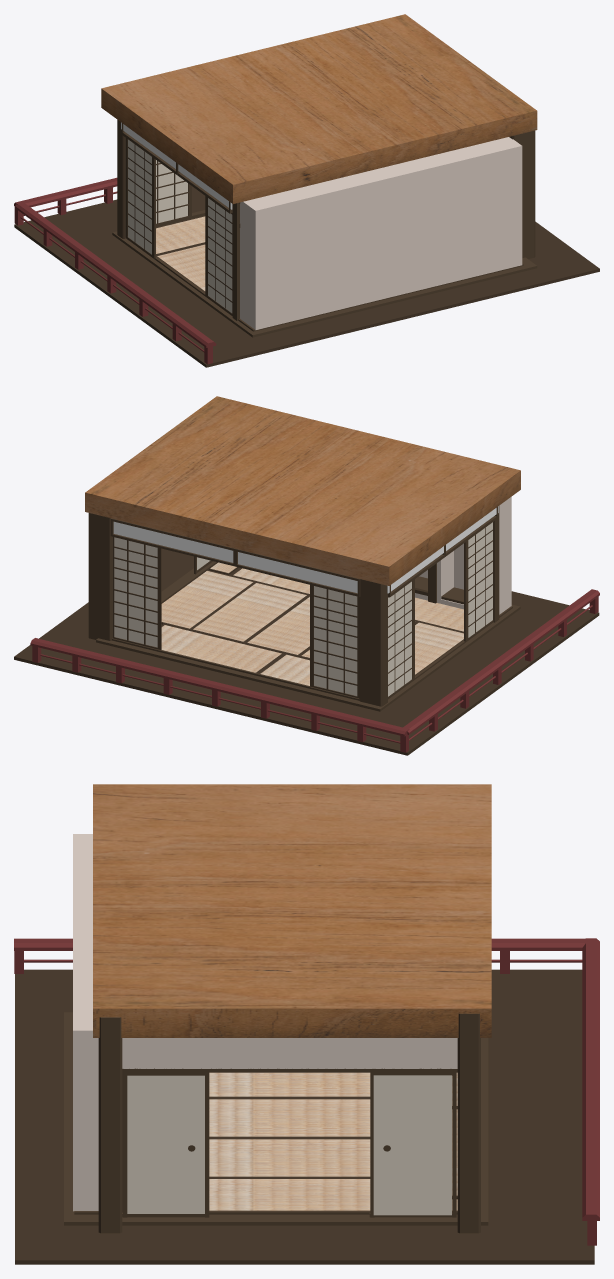
The model's file is Updated_background.fbx.
The picture shows the model from 3 angles, top to bottom: view 1: azimuth 30°, elevation 25°; view 2: azimuth 150°, elevation 25°; view 3: azimuth 270°, elevation 25°; orthographic projection. The views are drawn at different scales.
Parts seen in each view (by area): view 1: ALL_Background; view 2: ALL_Background; view 3: ALL_Background.
Part boxes in pixels (box(x1,y1,x2,y2)): ALL_Background: box(14, 14, 599, 367); ALL_Background: box(14, 396, 599, 755); ALL_Background: box(14, 784, 599, 1264).
Size of the model in its own units: 70.44 by 26.72 by 59.98.
11 materials, 3 textured.
